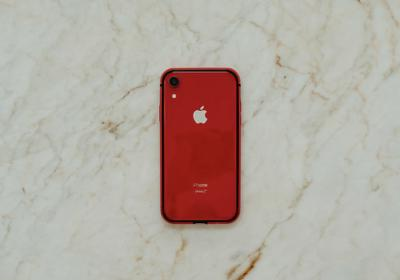cell-phone: (155, 60, 240, 227)
